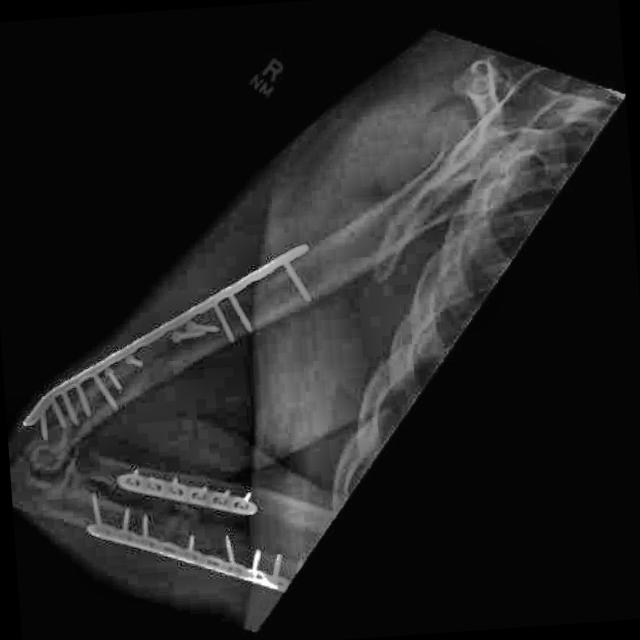humerus: (50, 339, 170, 449)
